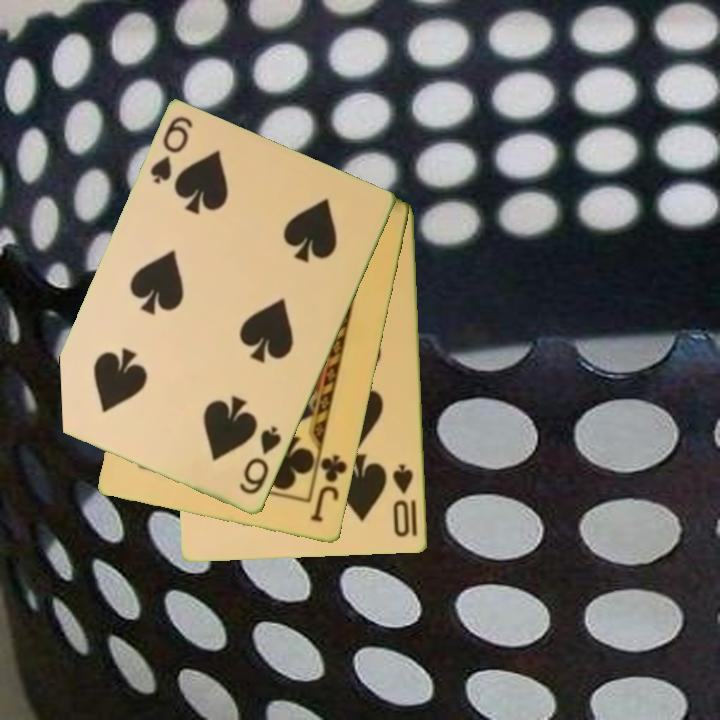10s: (390, 461, 417, 540)
6s: (236, 423, 285, 498), (147, 113, 196, 188)
Jc: (307, 451, 351, 525)
